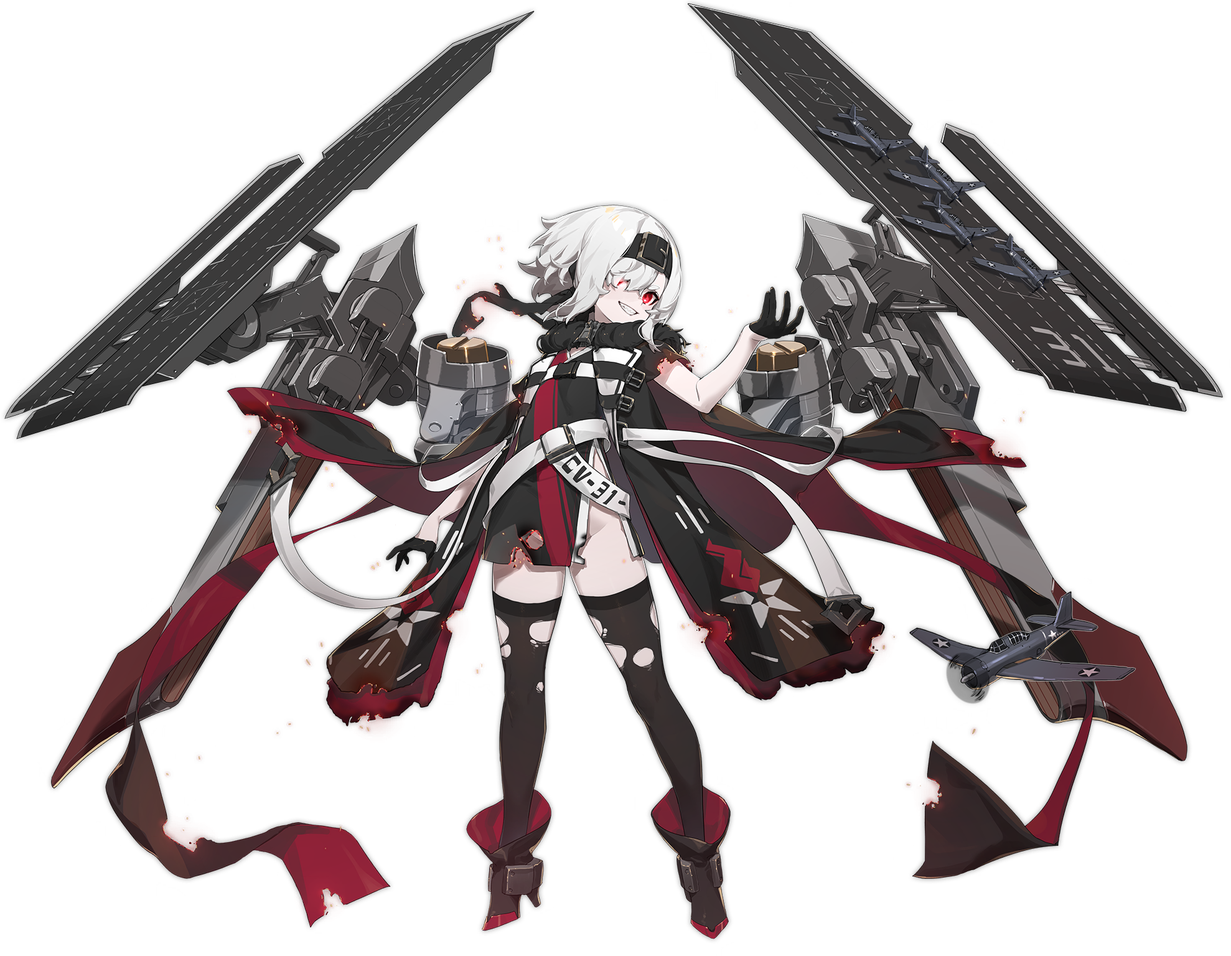person: (255, 187, 870, 954)
